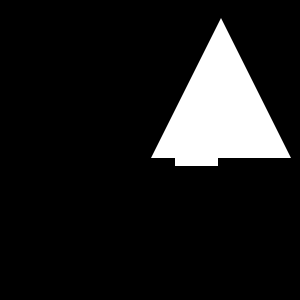circle: (175, 123, 218, 166)
triangle: (151, 18, 291, 158)
